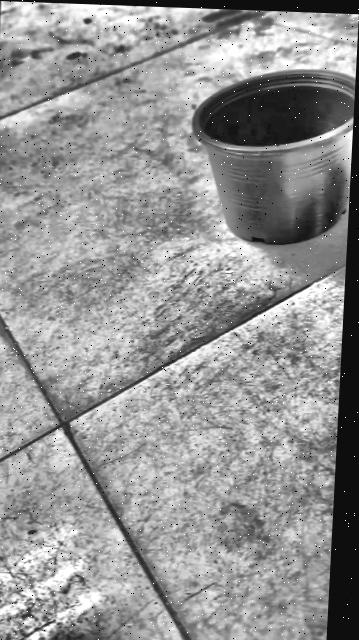pot: (184, 64, 356, 245)
